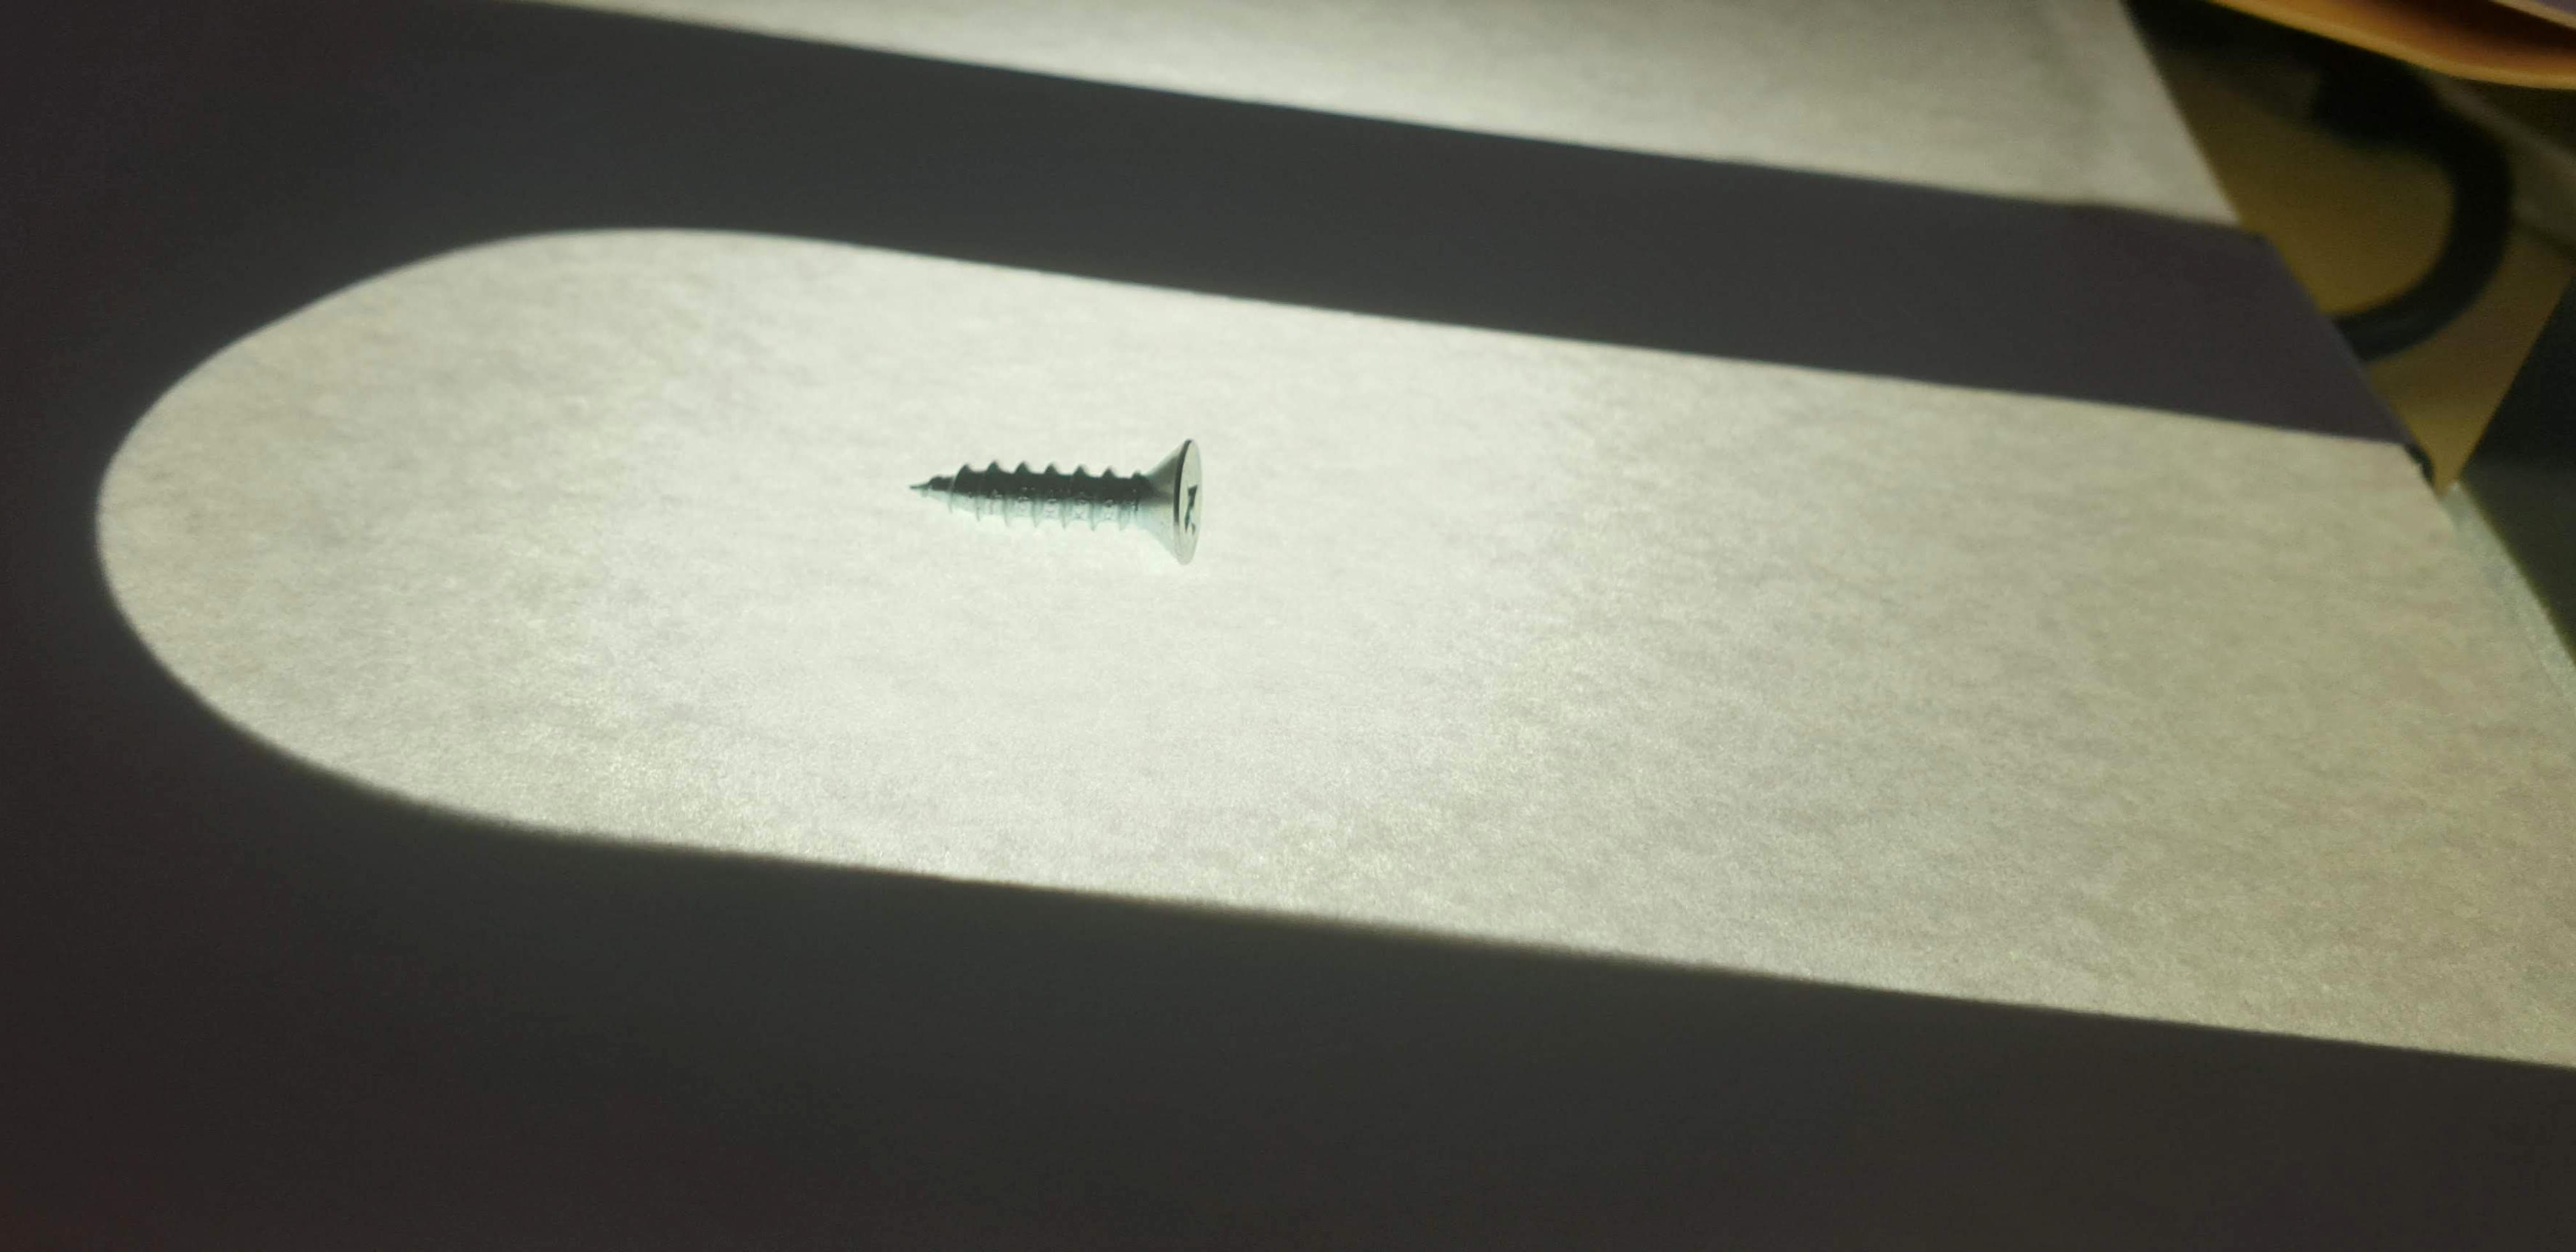S003: (882, 417, 1260, 601)
